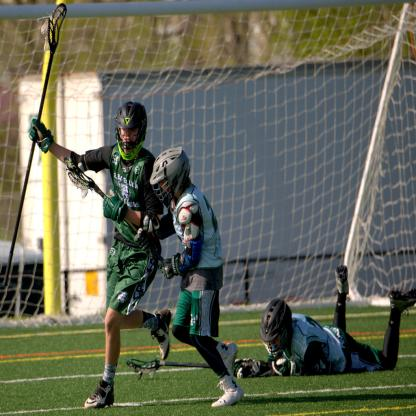Helmet: (149, 148, 192, 210), (258, 294, 294, 362), (110, 101, 145, 153)
